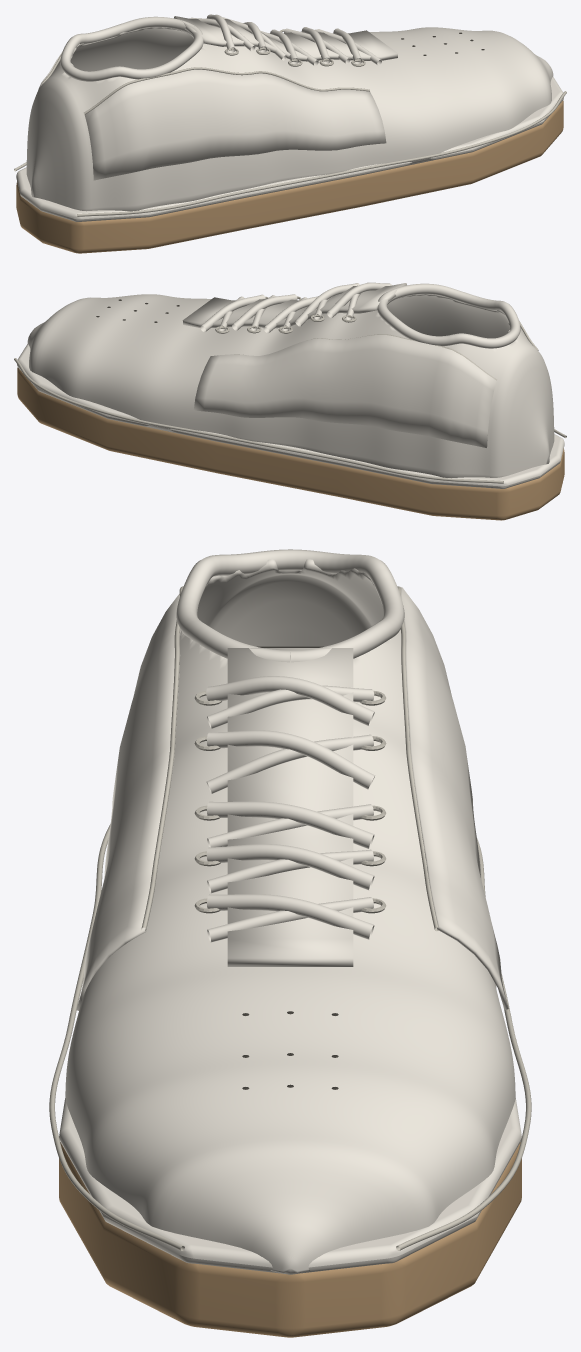
The picture shows the model from 3 angles, top to bottom: view 1: azimuth 30°, elevation 25°; view 2: azimuth 150°, elevation 25°; view 3: azimuth 270°, elevation 25°; orthographic projection. The views are drawn at different scales.
Parts seen in each view (by area): view 1: upper, panel, sole, sole-rim, collar, tongue, sole stitching, stitch, laces, laces.001, laces.006, laces.007 (+2 smaller); view 2: upper, panel.001, sole, sole-rim, collar, tongue, sole stitching.001, laces.006, laces, laces.008, laces.002, laces.004; view 3: upper, sole, tongue, panel.001, panel, sole-rim, collar, sole stitching, laces.002, laces, laces.006, laces.008 (+9 smaller).
Part boxes in pixels (box(x1,y1,x2,y2)): upper: box(26, 27, 553, 211); panel: box(84, 69, 386, 180); sole: box(16, 100, 563, 253); sole-rim: box(16, 76, 563, 221); collar: box(60, 16, 203, 81); tongue: box(174, 16, 398, 61); sole stitching: box(77, 91, 566, 216); stitch: box(84, 67, 369, 114); laces: box(206, 14, 235, 52); laces.001: box(190, 17, 255, 51); laces.006: box(301, 27, 330, 63); laces.007: box(284, 28, 350, 63); upper: box(27, 294, 554, 477); panel.001: box(193, 335, 496, 447); sole: box(17, 367, 564, 520); sole-rim: box(17, 343, 564, 488); collar: box(377, 283, 520, 348); tongue: box(182, 283, 406, 328); sole stitching.001: box(14, 358, 503, 483); laces.006: box(232, 294, 297, 330); laces: box(327, 282, 391, 317); laces.008: box(200, 294, 265, 332); laces.002: box(295, 283, 359, 326); laces.004: box(263, 296, 317, 333); upper: box(65, 559, 515, 1274); sole: box(59, 1142, 521, 1337); tongue: box(227, 648, 353, 966); panel.001: box(399, 586, 508, 1009); panel: box(76, 594, 180, 1010); sole-rim: box(59, 1098, 521, 1274); collar: box(176, 549, 404, 662); sole stitching: box(49, 824, 184, 1250); laces.002: box(207, 730, 375, 789); laces: box(206, 676, 374, 726); laces.006: box(206, 844, 374, 890); laces.008: box(207, 894, 374, 939).
Size of the model in its own units: 2.97 by 0.9343 by 1.19.
